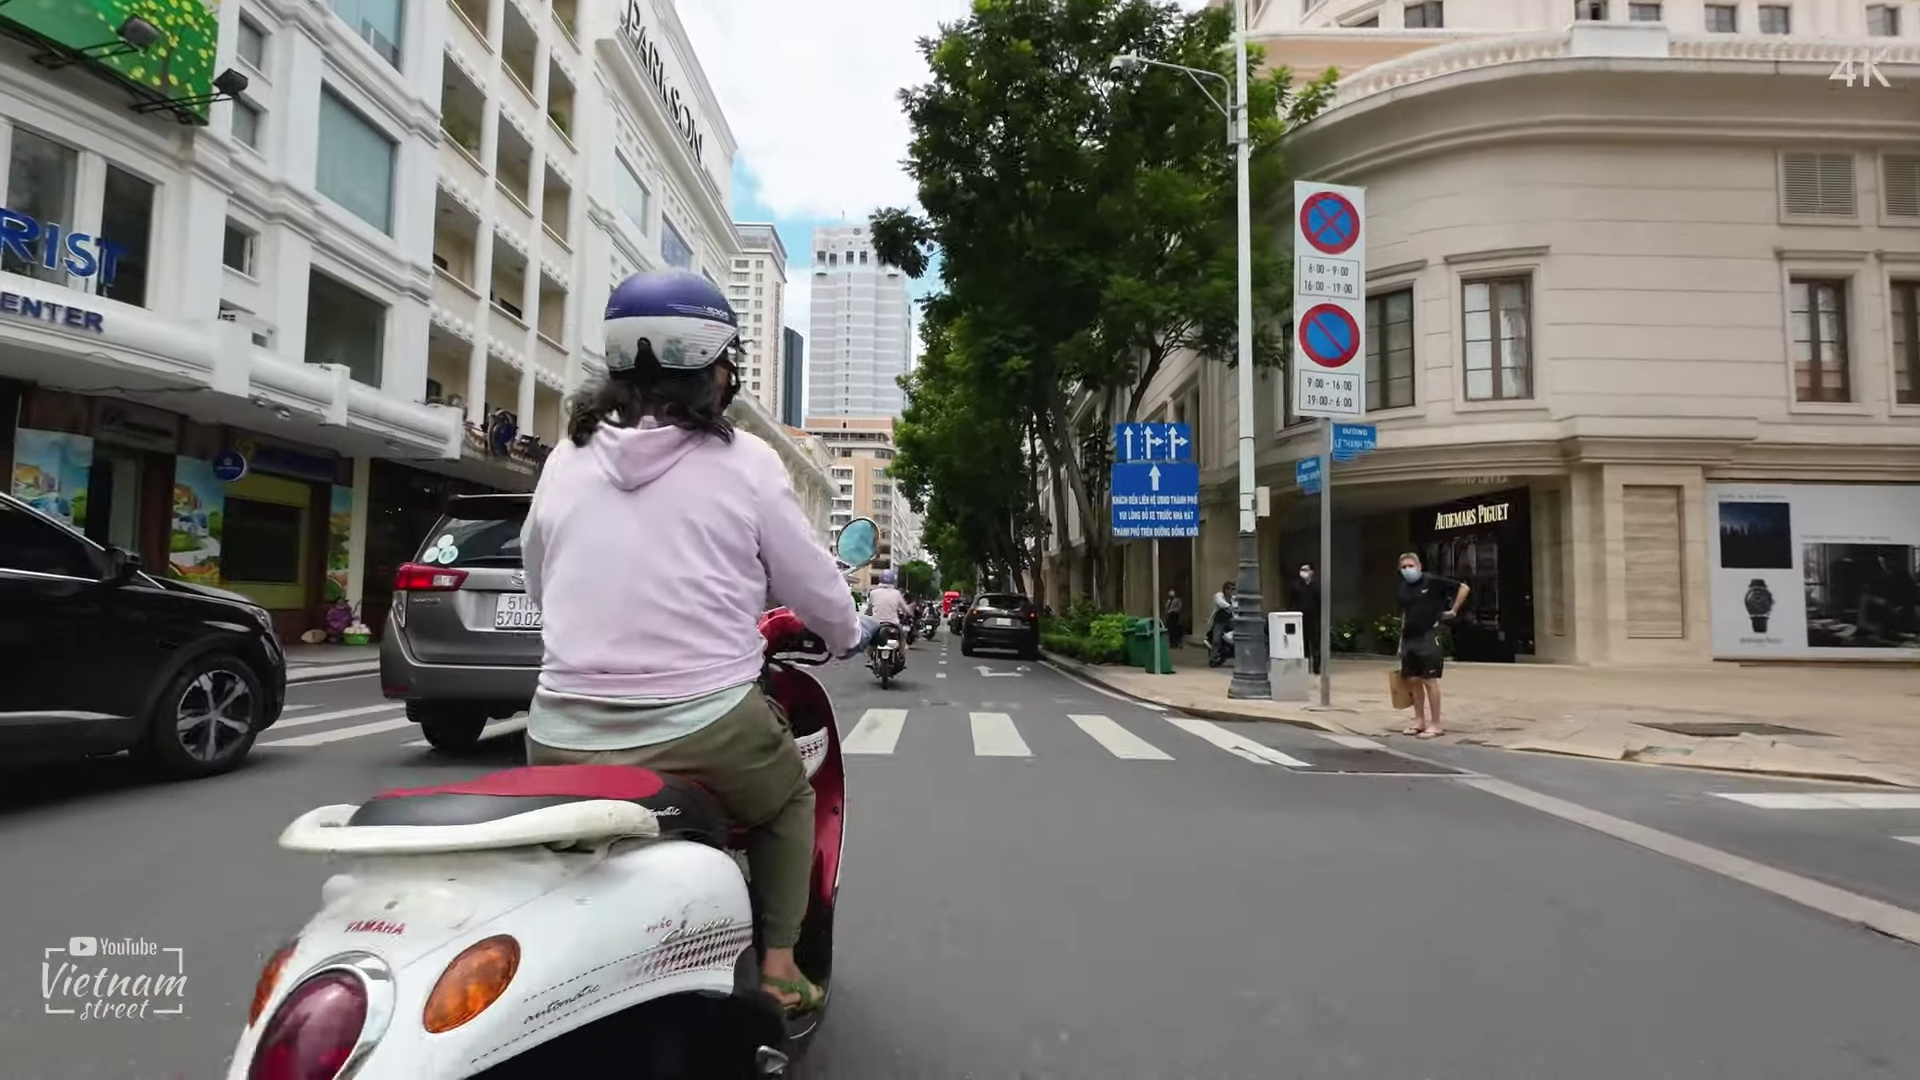cam_do_xe: (1291, 297, 1361, 375)
